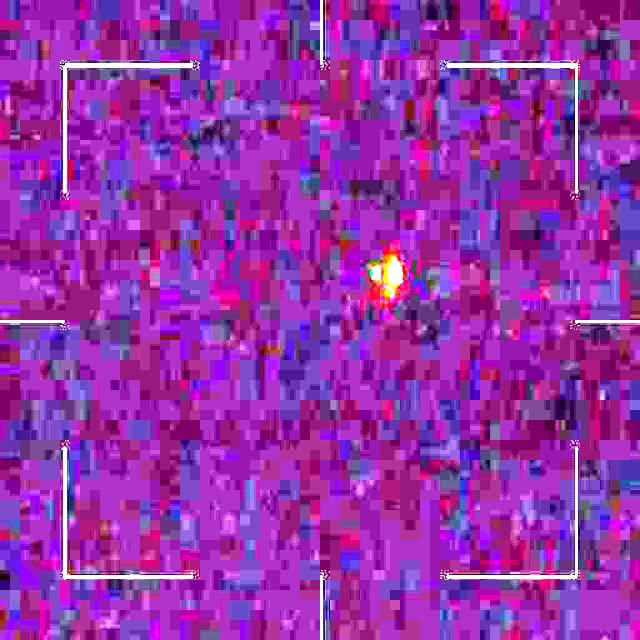bird: (370, 252, 402, 300)
